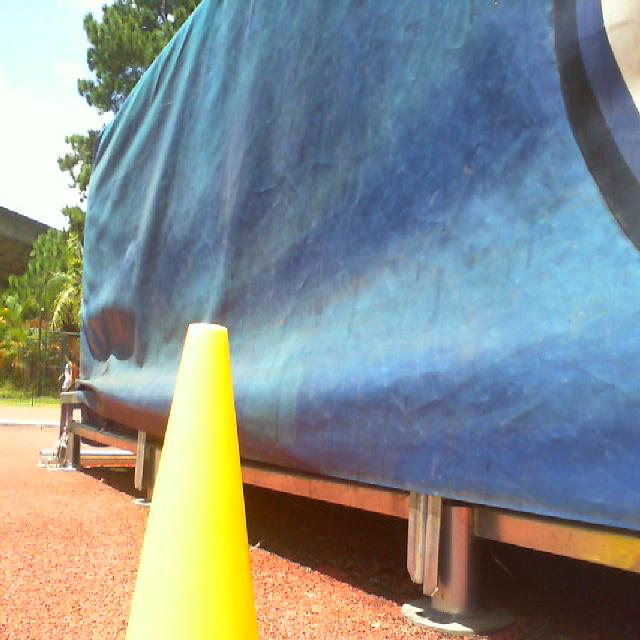cone: (124, 324, 258, 640)
